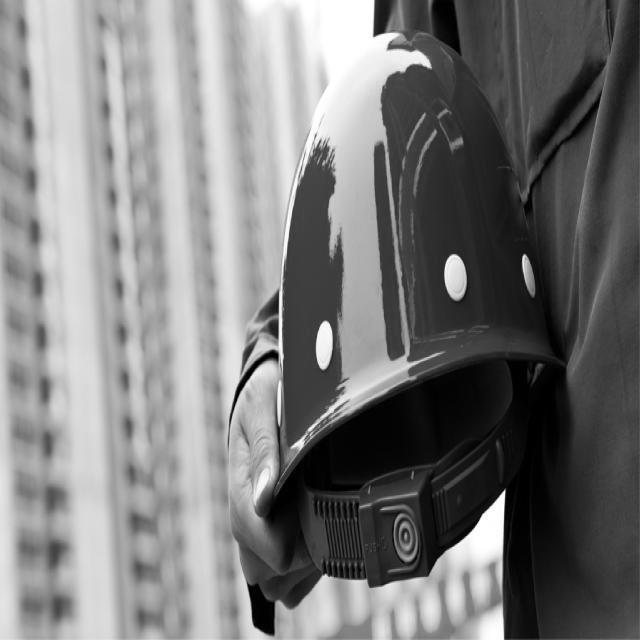safety_helmet: (278, 30, 562, 488)
